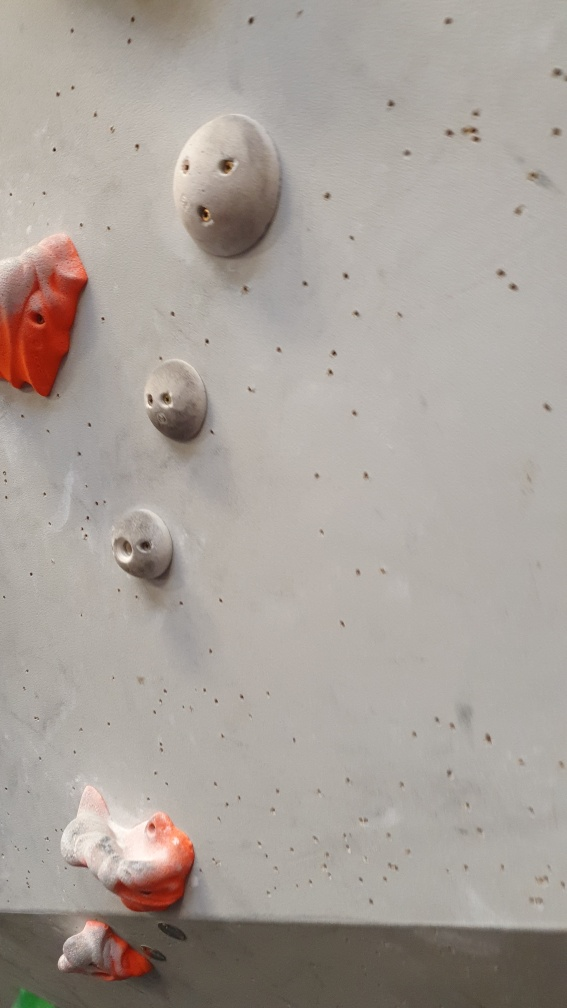Hand Start: (158, 920, 190, 946), (142, 943, 167, 964)
Jug: (60, 781, 199, 915), (1, 221, 92, 409)
Sloper: (169, 113, 284, 260), (140, 359, 213, 447), (110, 506, 181, 589)
